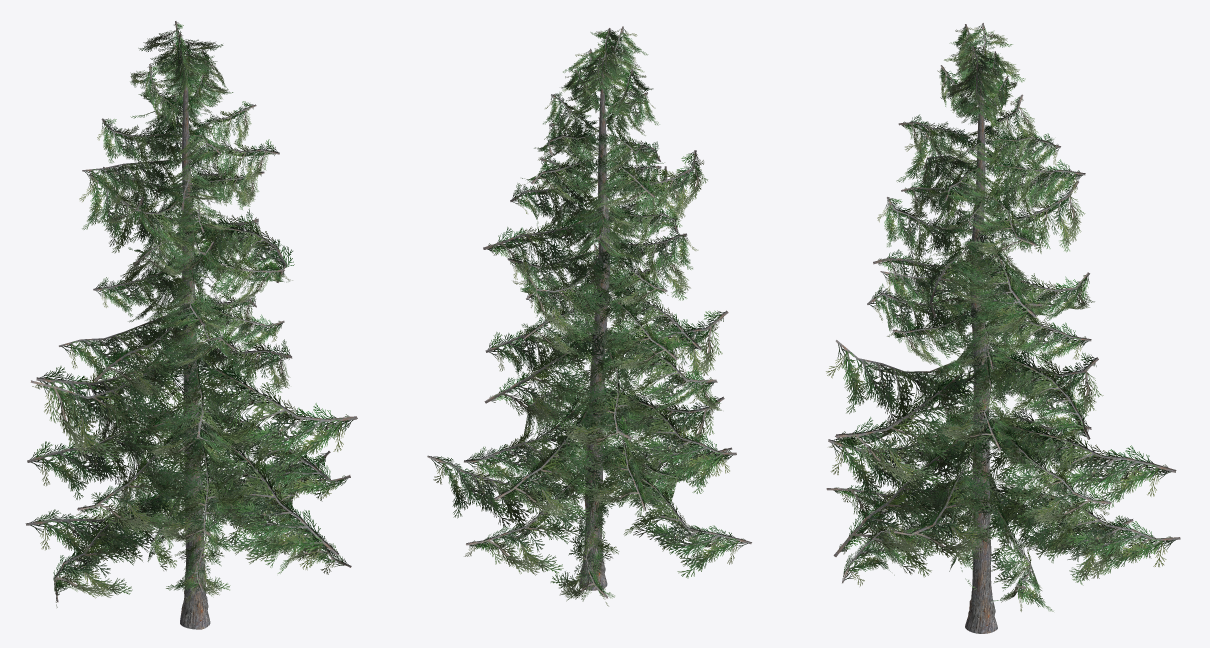
File: defaultalaskacedar.glb
The picture shows the model from 3 angles, left to right: view 1: azimuth 30°, elevation 25°; view 2: azimuth 150°, elevation 25°; view 3: azimuth 270°, elevation 25°; orthographic projection. The views are drawn at different scales.
Parts seen in each view (by area): view 1: DefaultAlaskaCedar; view 2: DefaultAlaskaCedar; view 3: DefaultAlaskaCedar.
Boxes of the visible parts, x1,y1,x2,y2 form: DefaultAlaskaCedar: [25, 21, 357, 629]; DefaultAlaskaCedar: [427, 26, 751, 606]; DefaultAlaskaCedar: [826, 23, 1180, 633].
Size of the model in its own units: 14.1 by 23.48 by 14.36.
Materials: 2 (2 with a texture image).
